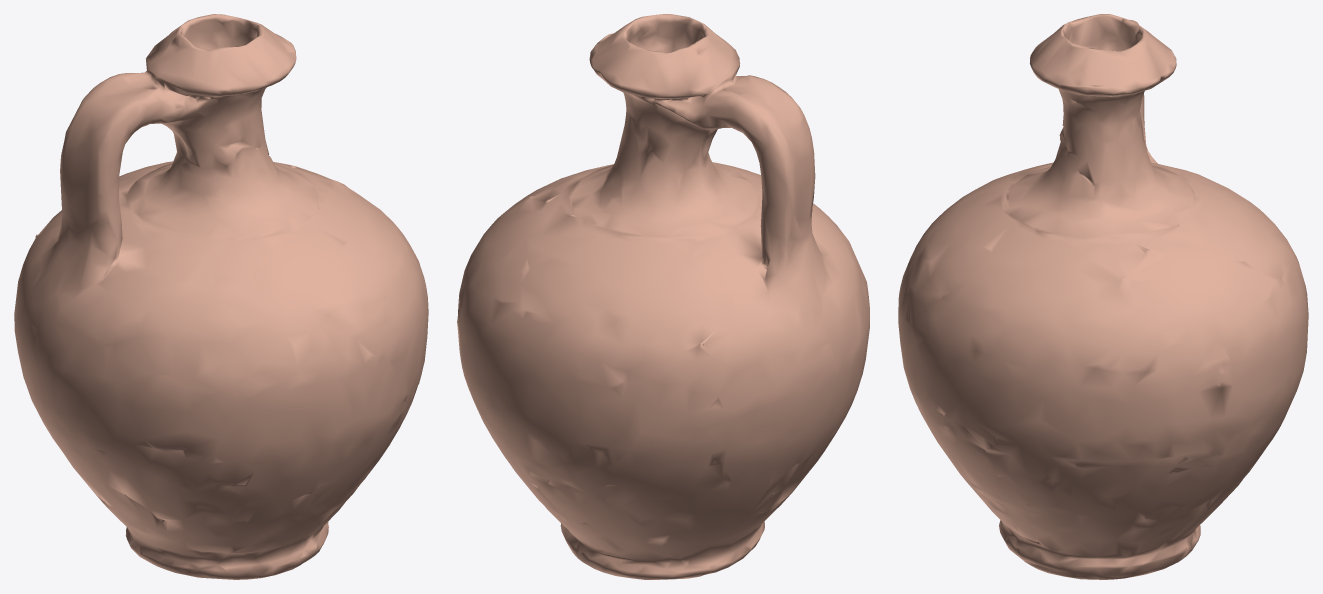
Rendered from wc-roman-pottery-r3997.lod1.glb.
The picture shows the model from 3 angles, left to right: view 1: azimuth 30°, elevation 25°; view 2: azimuth 150°, elevation 25°; view 3: azimuth 270°, elevation 25°; orthographic projection.
Visible parts, largest first — view 1: wc-roman-pottery-r3997; view 2: wc-roman-pottery-r3997; view 3: wc-roman-pottery-r3997.
Boxes of the visible parts, x1=… form: wc-roman-pottery-r3997: x1=14, y1=14, x2=428, y2=579; wc-roman-pottery-r3997: x1=457, y1=14, x2=869, y2=579; wc-roman-pottery-r3997: x1=898, y1=14, x2=1308, y2=579.
Size of the model in its own units: 0.1828 by 0.2499 by 0.1829.
